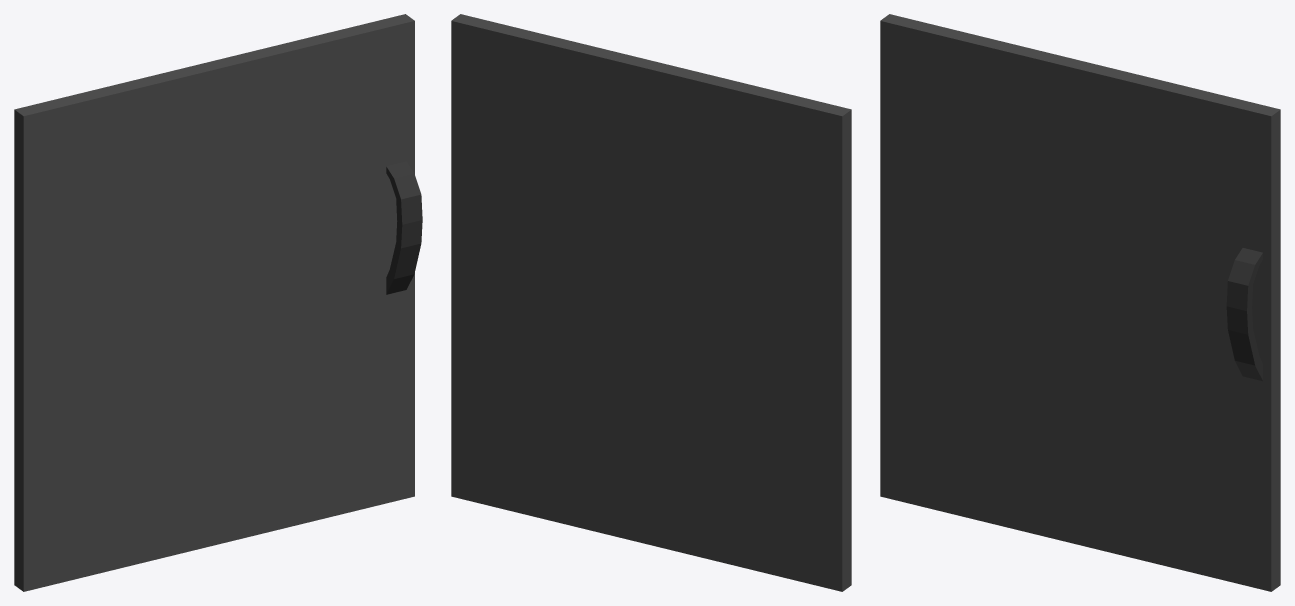
File: shelf_door_4.glb
The picture shows the model from 3 angles, left to right: view 1: azimuth 30°, elevation 25°; view 2: azimuth 150°, elevation 25°; view 3: azimuth 330°, elevation 25°; orthographic projection.
Parts seen in each view (by area): view 1: Expositor Glass Door 1; view 2: Expositor Glass Door 1; view 3: Expositor Glass Door 1.
Part boxes in pixels (left/top/right/bottom): Expositor Glass Door 1: left=14, top=14, right=422, bottom=591; Expositor Glass Door 1: left=451, top=14, right=851, bottom=591; Expositor Glass Door 1: left=880, top=14, right=1280, bottom=591.
Size of the model in its own units: 0.662 by 0.7689 by 0.0745.
2 materials, 1 textured.
